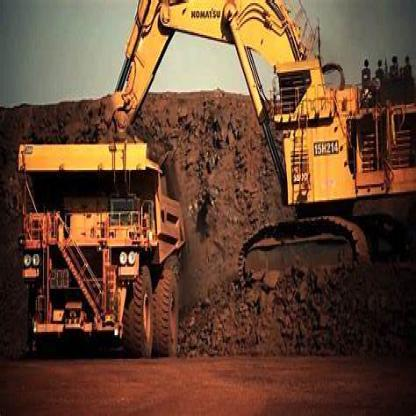dump_truck: (16, 122, 190, 354)
excavator: (115, 6, 415, 300)
